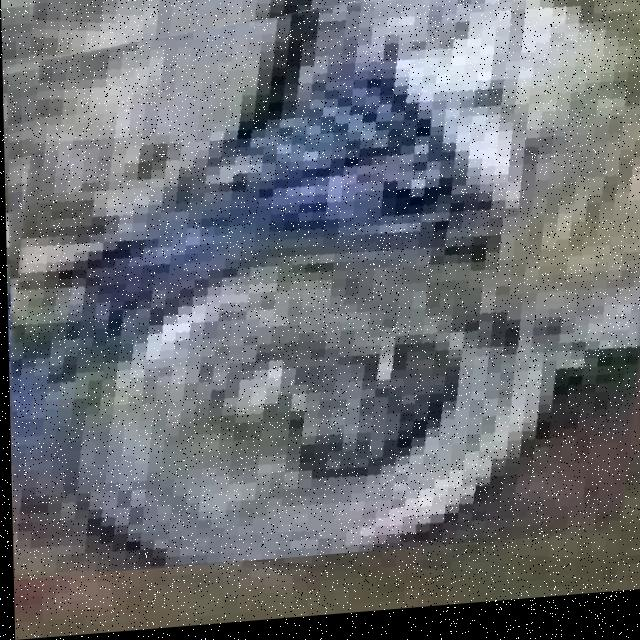can: (9, 0, 640, 571)
